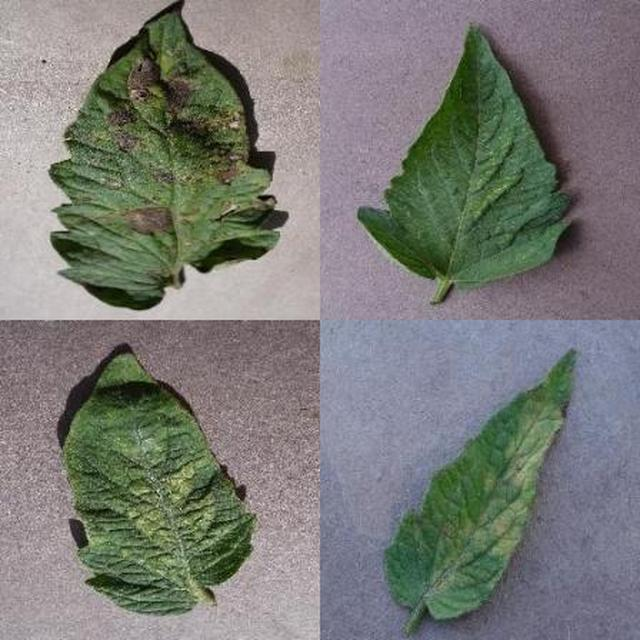Early Blight Leaf: (229, 222, 640, 640)
